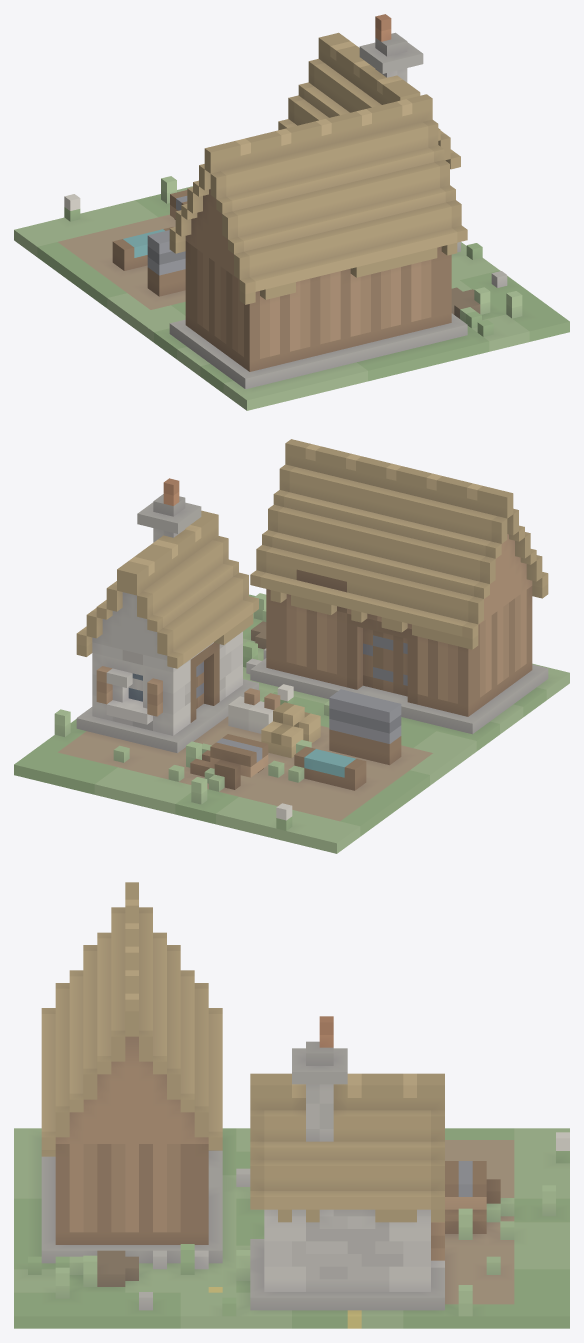
The model's file is dairy_farm.glb.
3 renders of one model, top to bottom at view 1: azimuth 30°, elevation 25°; view 2: azimuth 150°, elevation 25°; view 3: azimuth 270°, elevation 25°, orthographic. The views are drawn at different scales.
Visible parts, largest first — view 1: dairy_farm; view 2: dairy_farm; view 3: dairy_farm.
Boxes of the visible parts, x1,y1,x2,y2 form: dairy_farm: [14, 14, 569, 410]; dairy_farm: [14, 439, 569, 853]; dairy_farm: [14, 882, 569, 1328].
Size of the model in its own units: 4 by 2.75 by 5.
